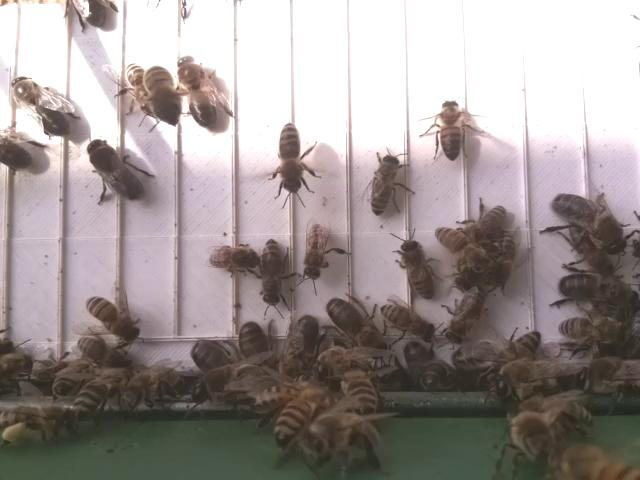Drone: (550, 190, 629, 258), (326, 296, 391, 362), (85, 135, 148, 202), (10, 73, 73, 138), (555, 268, 640, 315), (174, 51, 221, 130), (278, 311, 322, 383)
Worker: (82, 291, 142, 343), (443, 281, 489, 347), (398, 235, 437, 301), (431, 223, 486, 269), (380, 300, 438, 343), (275, 119, 306, 196), (259, 238, 289, 309), (368, 154, 400, 220), (435, 96, 466, 163), (301, 223, 330, 281), (207, 242, 259, 273)
